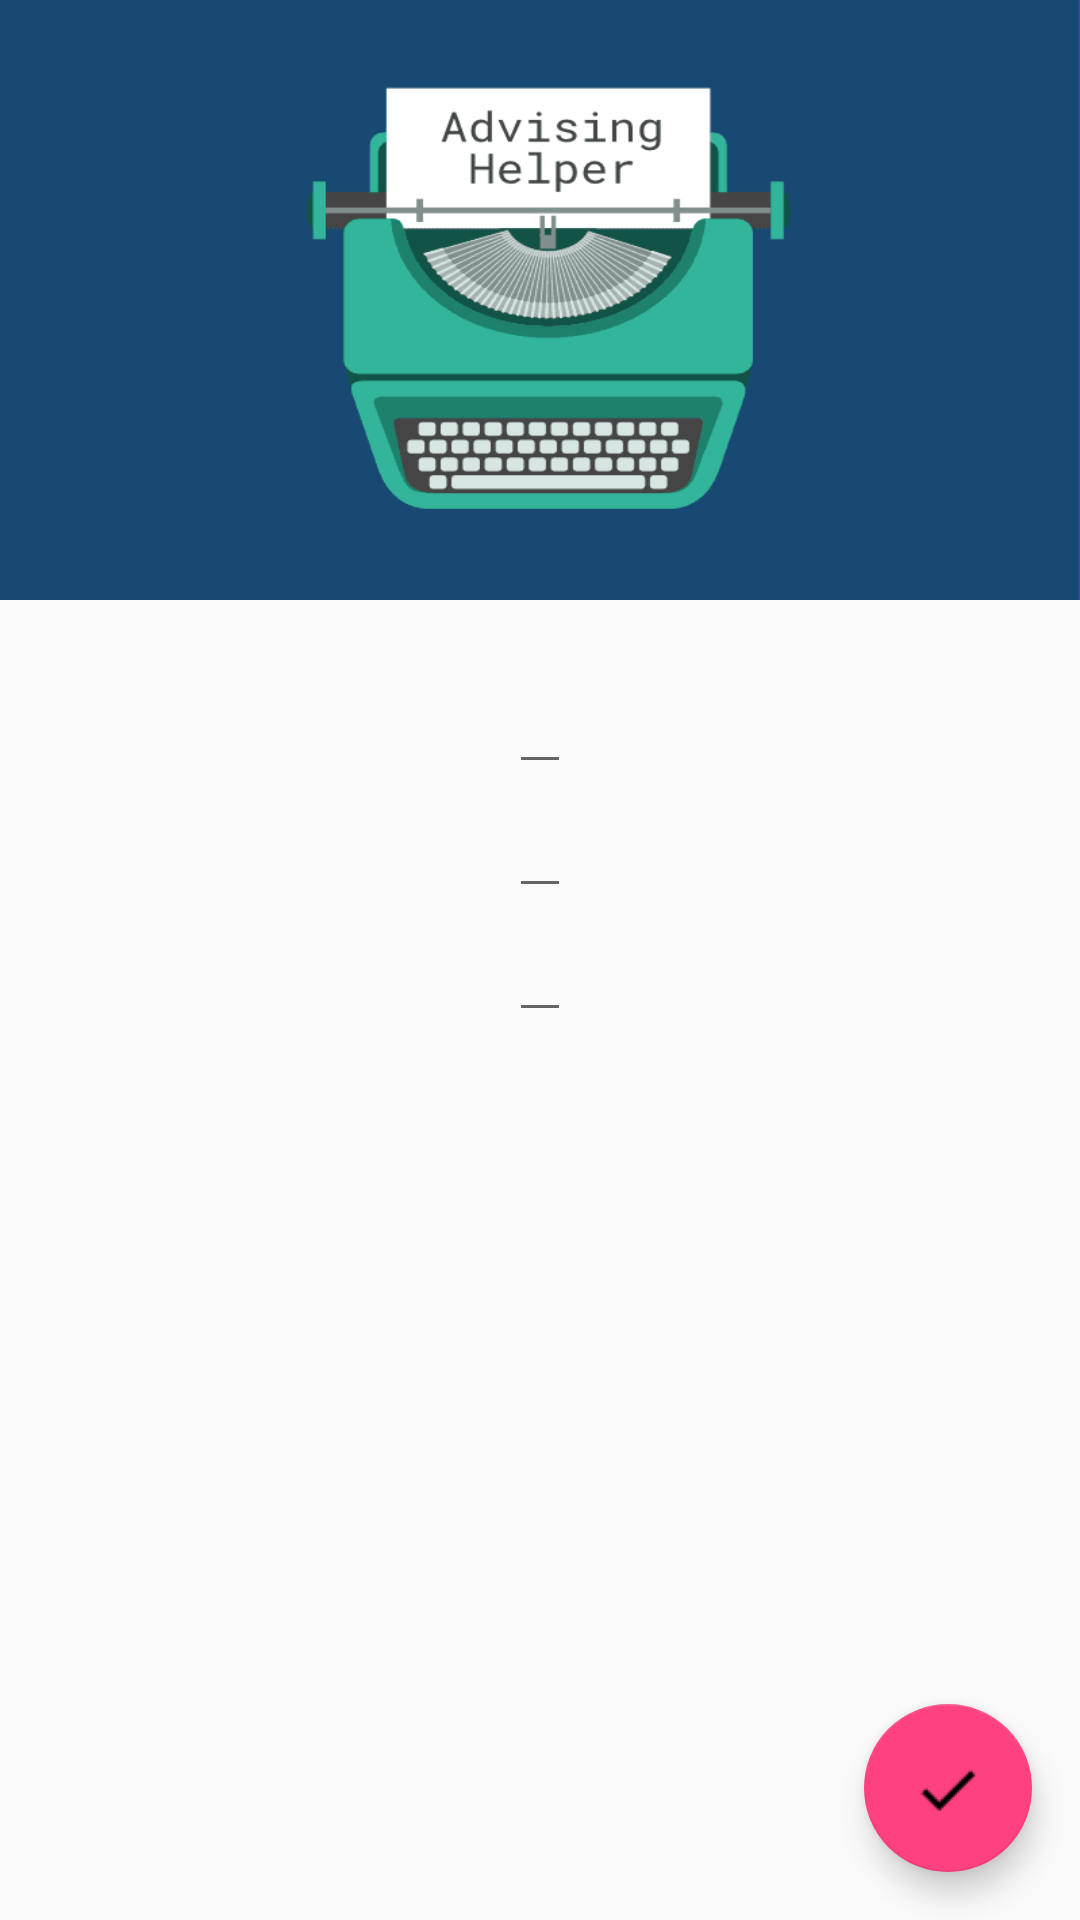

Screen size 1080w x 1920h. Icon name, then its center in pixels as (x=x, y=y):
tick: (x=948, y=1788)
